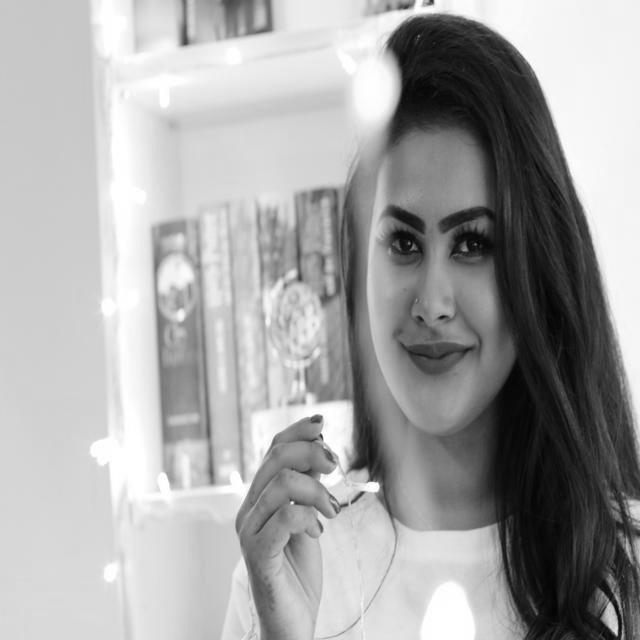Happiness: (362, 128, 520, 442)
